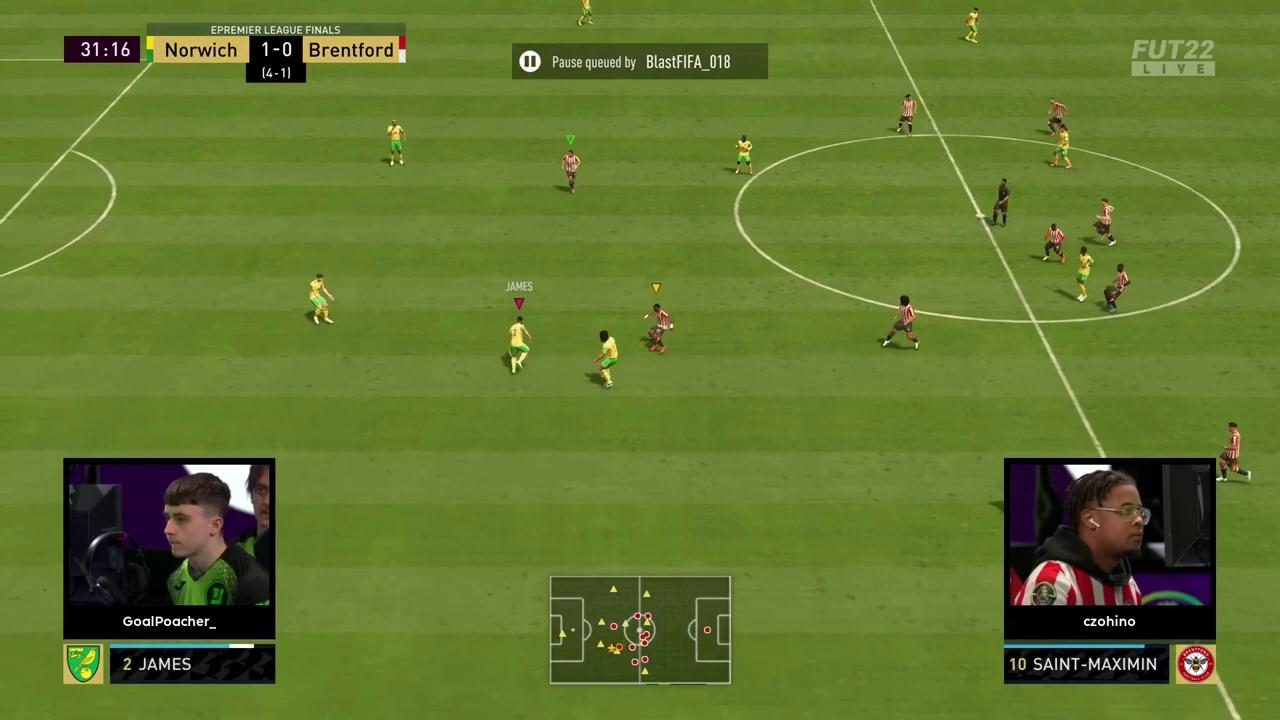scoreboard: (148, 31, 405, 66)
timestamp: (59, 31, 139, 62)
